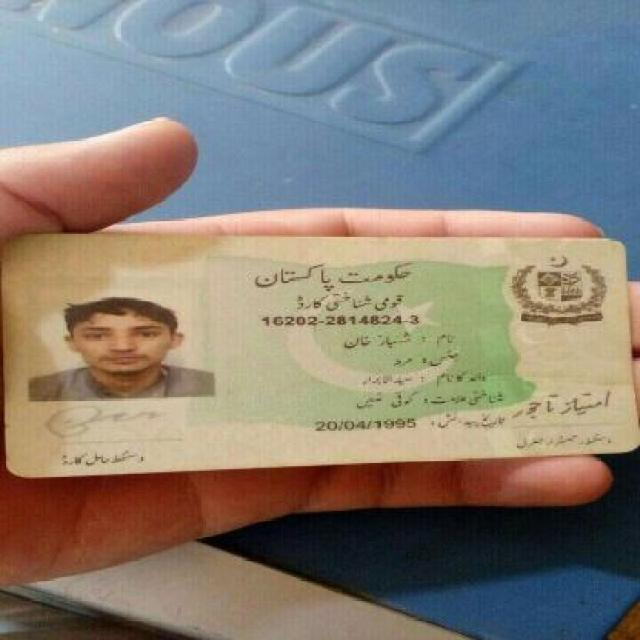Front: (7, 223, 640, 478)
